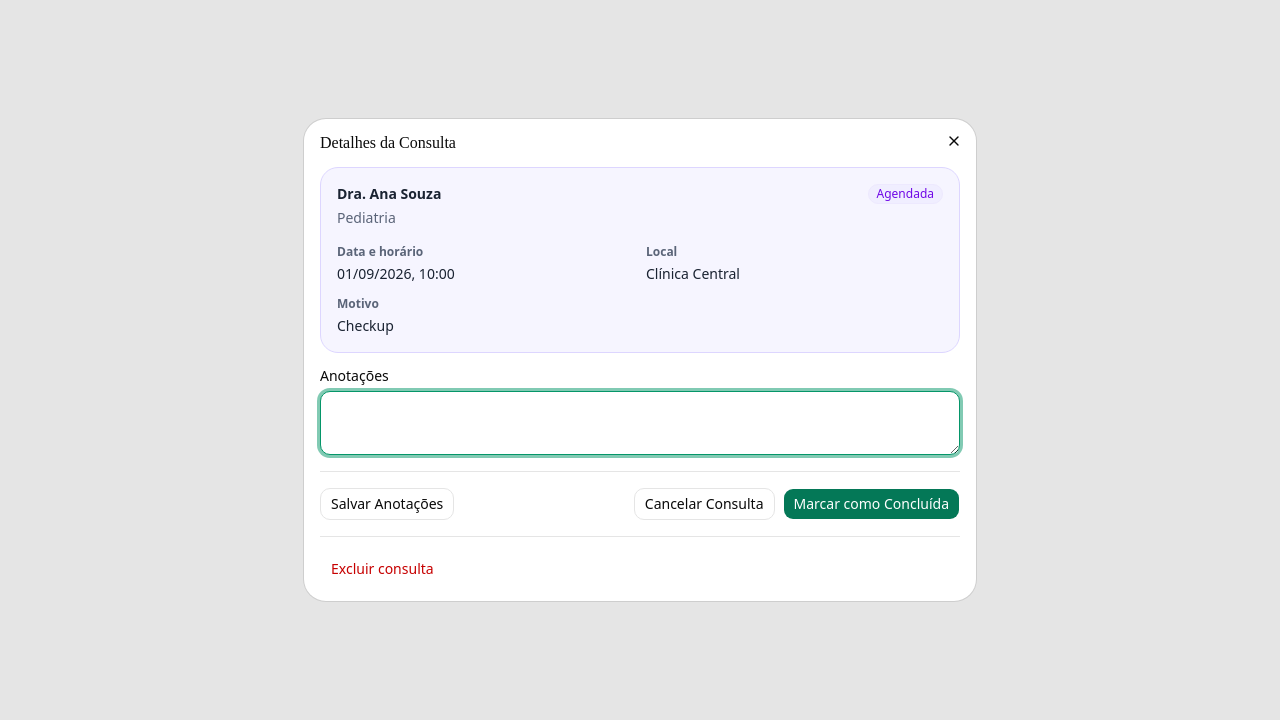
AppointmentDetailDialog › does not cancel the appointment on the first click — asks for confirmation first
Click the button "Cancelar Consulta" at (704, 504), box 634,488 -> 774,520
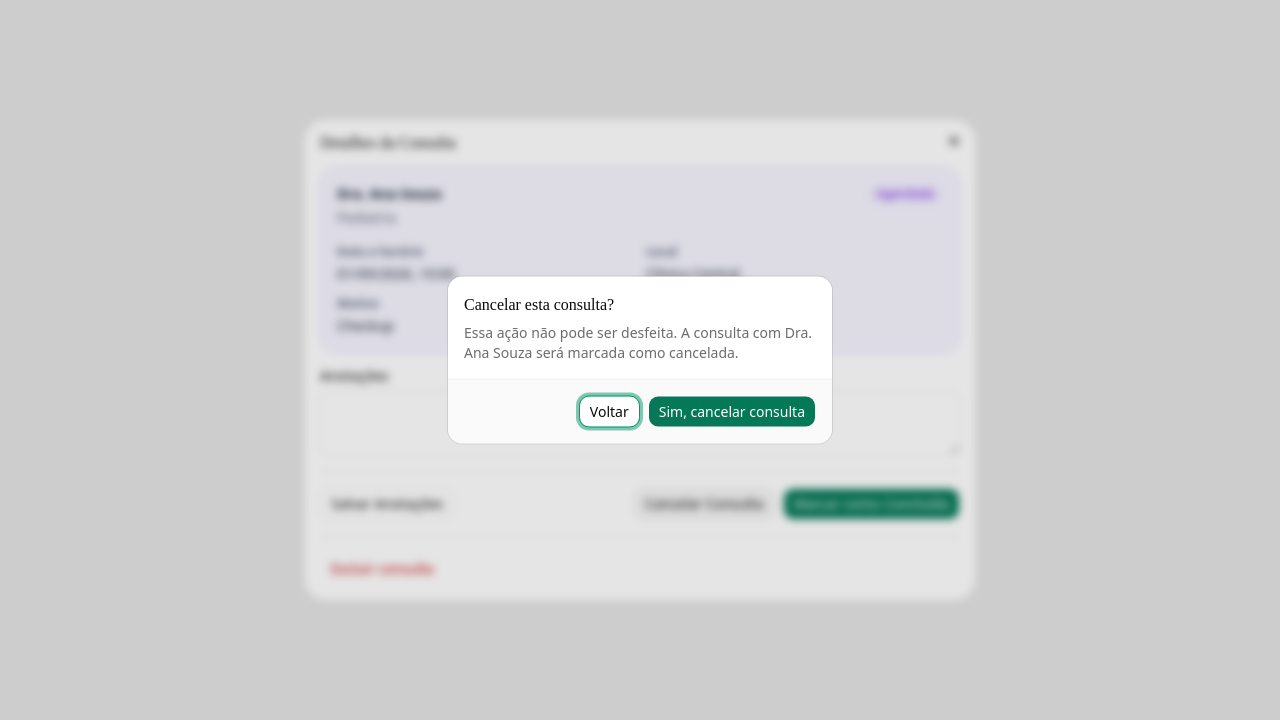
Now the heading "Cancelar esta consulta?" is shown, box 464,292 -> 614,316
